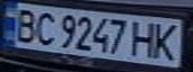2: (72, 14, 93, 52)
4: (90, 15, 112, 53)
7: (106, 16, 130, 55)
9: (54, 11, 78, 50)
B: (9, 6, 42, 44)
C: (30, 9, 57, 46)
H: (130, 18, 160, 58)
K: (148, 20, 184, 61)
